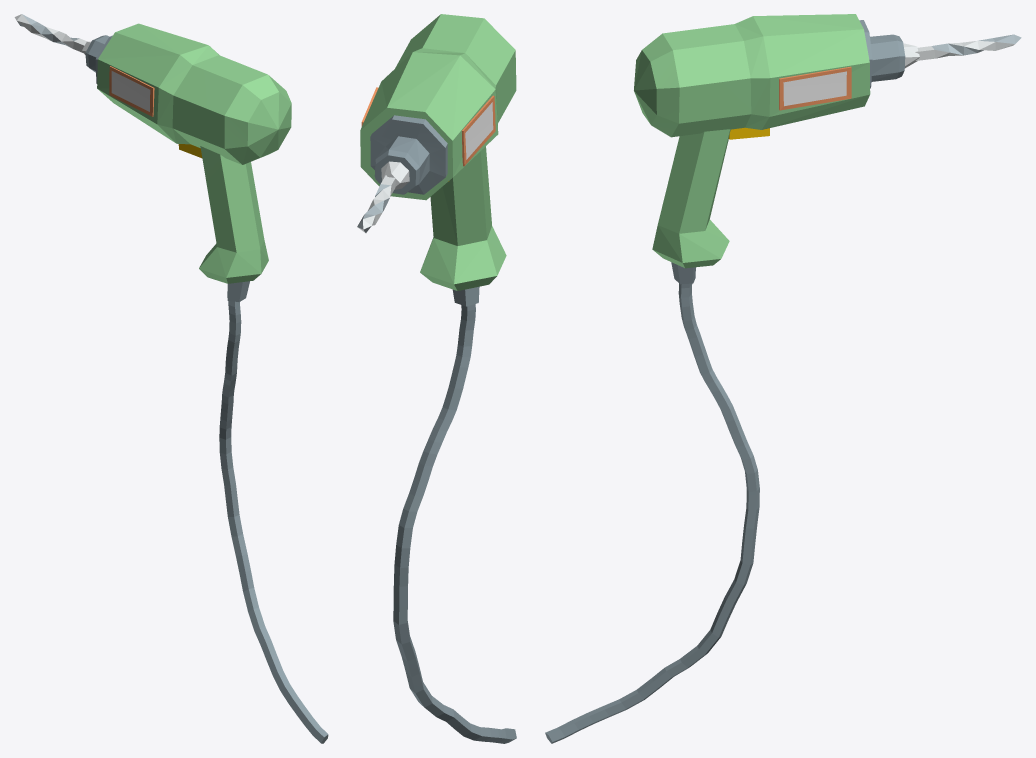
File: taladro.dae
The picture shows the model from 3 angles, left to right: view 1: azimuth 30°, elevation 25°; view 2: azimuth 150°, elevation 25°; view 3: azimuth 270°, elevation 25°; orthographic projection. The views are drawn at different scales.
Visible parts, largest first — view 1: mesh1154746437, mesh82742289, mesh1723390201, mesh853393829, mesh1961794451, mesh665123791, mesh67616210, mesh799307983; view 2: mesh1154746437, mesh82742289, mesh799307983, mesh1723390201, mesh853393829, mesh1961794451, mesh67616210, mesh665123791, mesh498811532, mesh110894648; view 3: mesh1154746437, mesh82742289, mesh1723390201, mesh1743322392, mesh853393829, mesh799307983, mesh665123791, mesh67616210.
Boxes of the visible parts, x1,y1,x2,y2 form: mesh1154746437: (97,23,291,164); mesh82742289: (199,146,268,283); mesh1723390201: (219,419,282,675); mesh853393829: (220,301,241,421); mesh1961794451: (109,66,154,116); mesh665123791: (273,670,328,743); mesh67616210: (14,14,87,52); mesh799307983: (85,35,112,83); mesh1154746437: (360,14,516,200); mesh82742289: (420,146,506,290); mesh799307983: (370,115,447,194); mesh1723390201: (393,493,471,736); mesh853393829: (409,304,475,496); mesh1961794451: (462,95,495,166); mesh67616210: (357,175,395,232); mesh665123791: (464,723,516,743); mesh498811532: (381,161,409,189); mesh110894648: (452,286,479,306); mesh1154746437: (634,14,870,137); mesh82742289: (652,129,730,268); mesh1723390201: (637,442,759,699); mesh1743322392: (779,66,851,110); mesh853393829: (678,283,747,446); mesh799307983: (859,20,905,88); mesh665123791: (545,690,644,743); mesh67616210: (915,34,1021,60).
Bounding box in the file's own units: 0.2175 × 0.6845 × 1.11.
